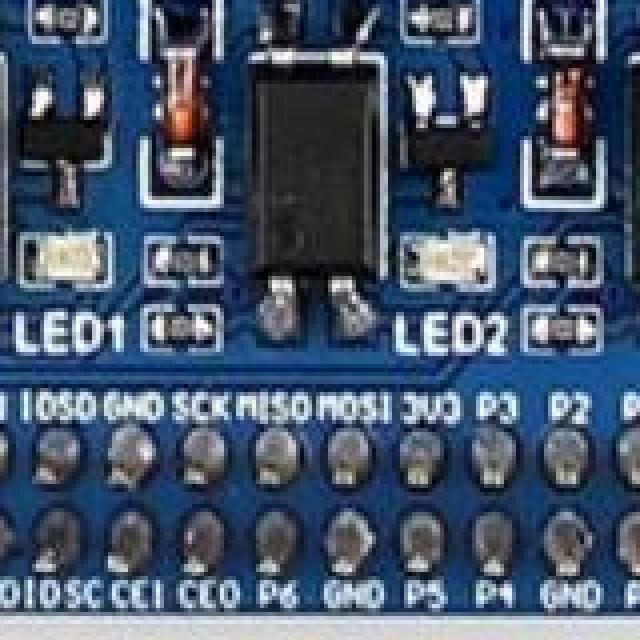IC: (252, 24, 392, 314), (632, 28, 640, 336), (0, 32, 4, 308)
LED: (24, 240, 116, 292), (408, 240, 492, 292)
diode: (536, 28, 604, 198), (148, 12, 208, 190)
resistor: (32, 0, 108, 56), (412, 0, 488, 48), (152, 304, 222, 354), (148, 240, 218, 286), (528, 308, 594, 354), (528, 248, 598, 284)
transistor: (24, 68, 112, 210), (412, 72, 500, 206)
